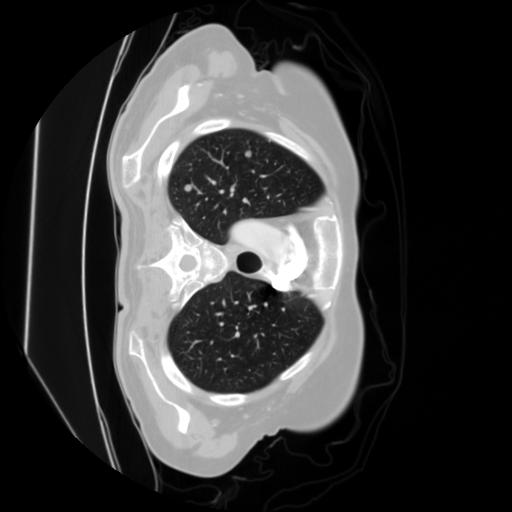nodule: (182, 183, 196, 197)
